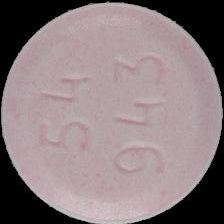0054-4182: (0, 0, 224, 224)
